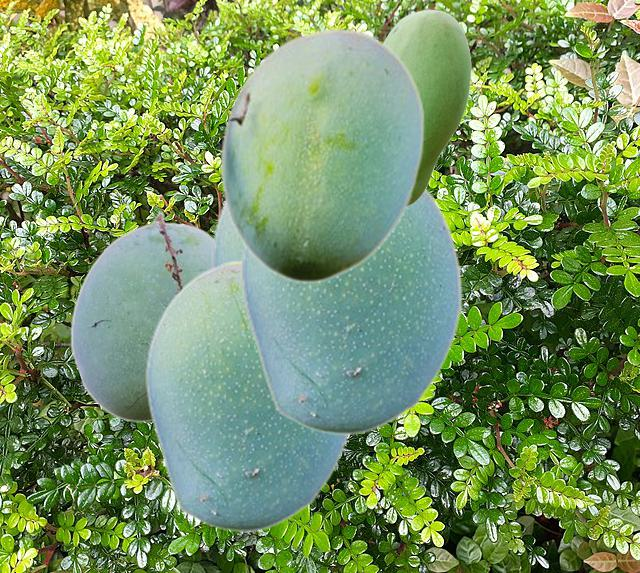green_mango: (144, 259, 351, 532), (239, 188, 462, 435), (219, 27, 424, 282), (70, 211, 212, 421), (384, 9, 470, 206), (210, 196, 241, 266)
